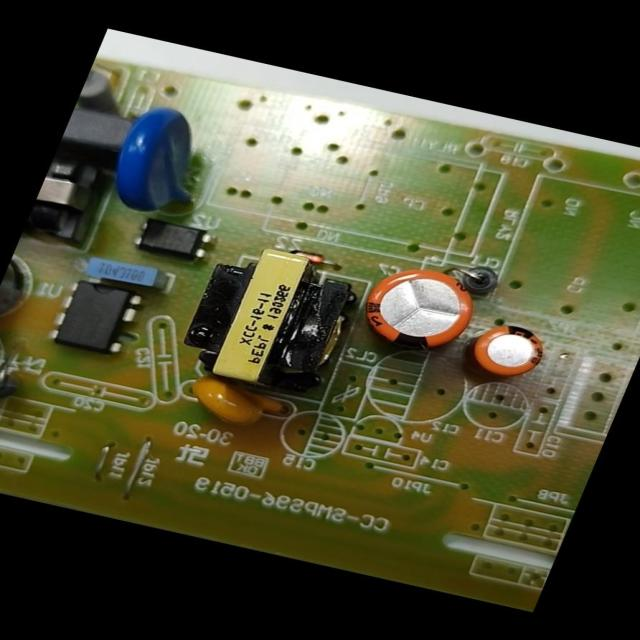Cap1: (342, 256, 492, 364)
Cap2: (452, 313, 558, 388)
Cap3: (0, 239, 52, 329)
Cap4: (0, 314, 24, 407)
MOSFET: (40, 269, 156, 361)
Mov: (94, 96, 232, 226)
Resistor: (71, 65, 142, 126)
Transformer: (167, 234, 382, 406), (18, 144, 130, 259)
